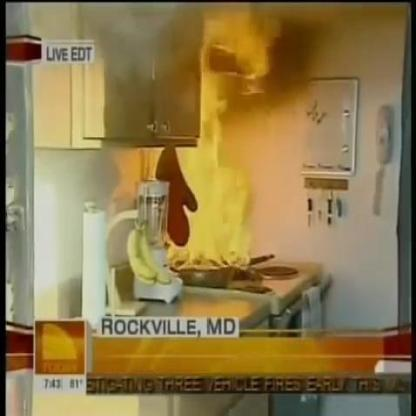fire: (155, 12, 271, 270)
